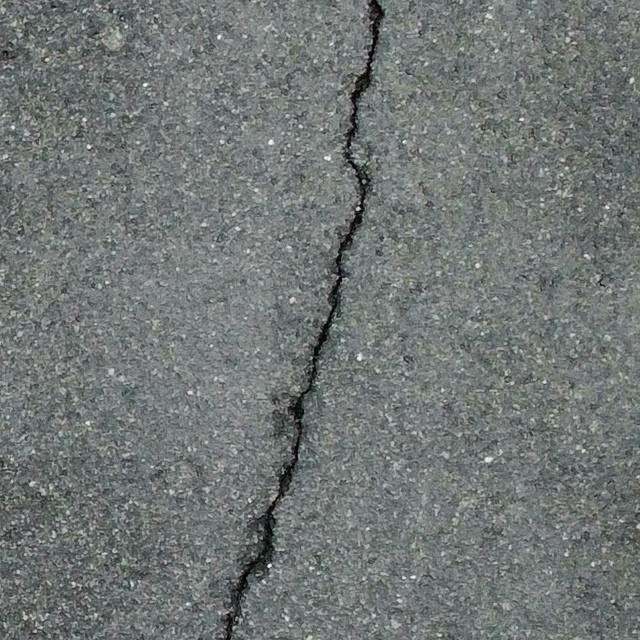LongitudinalCrack: (223, 1, 387, 639)
